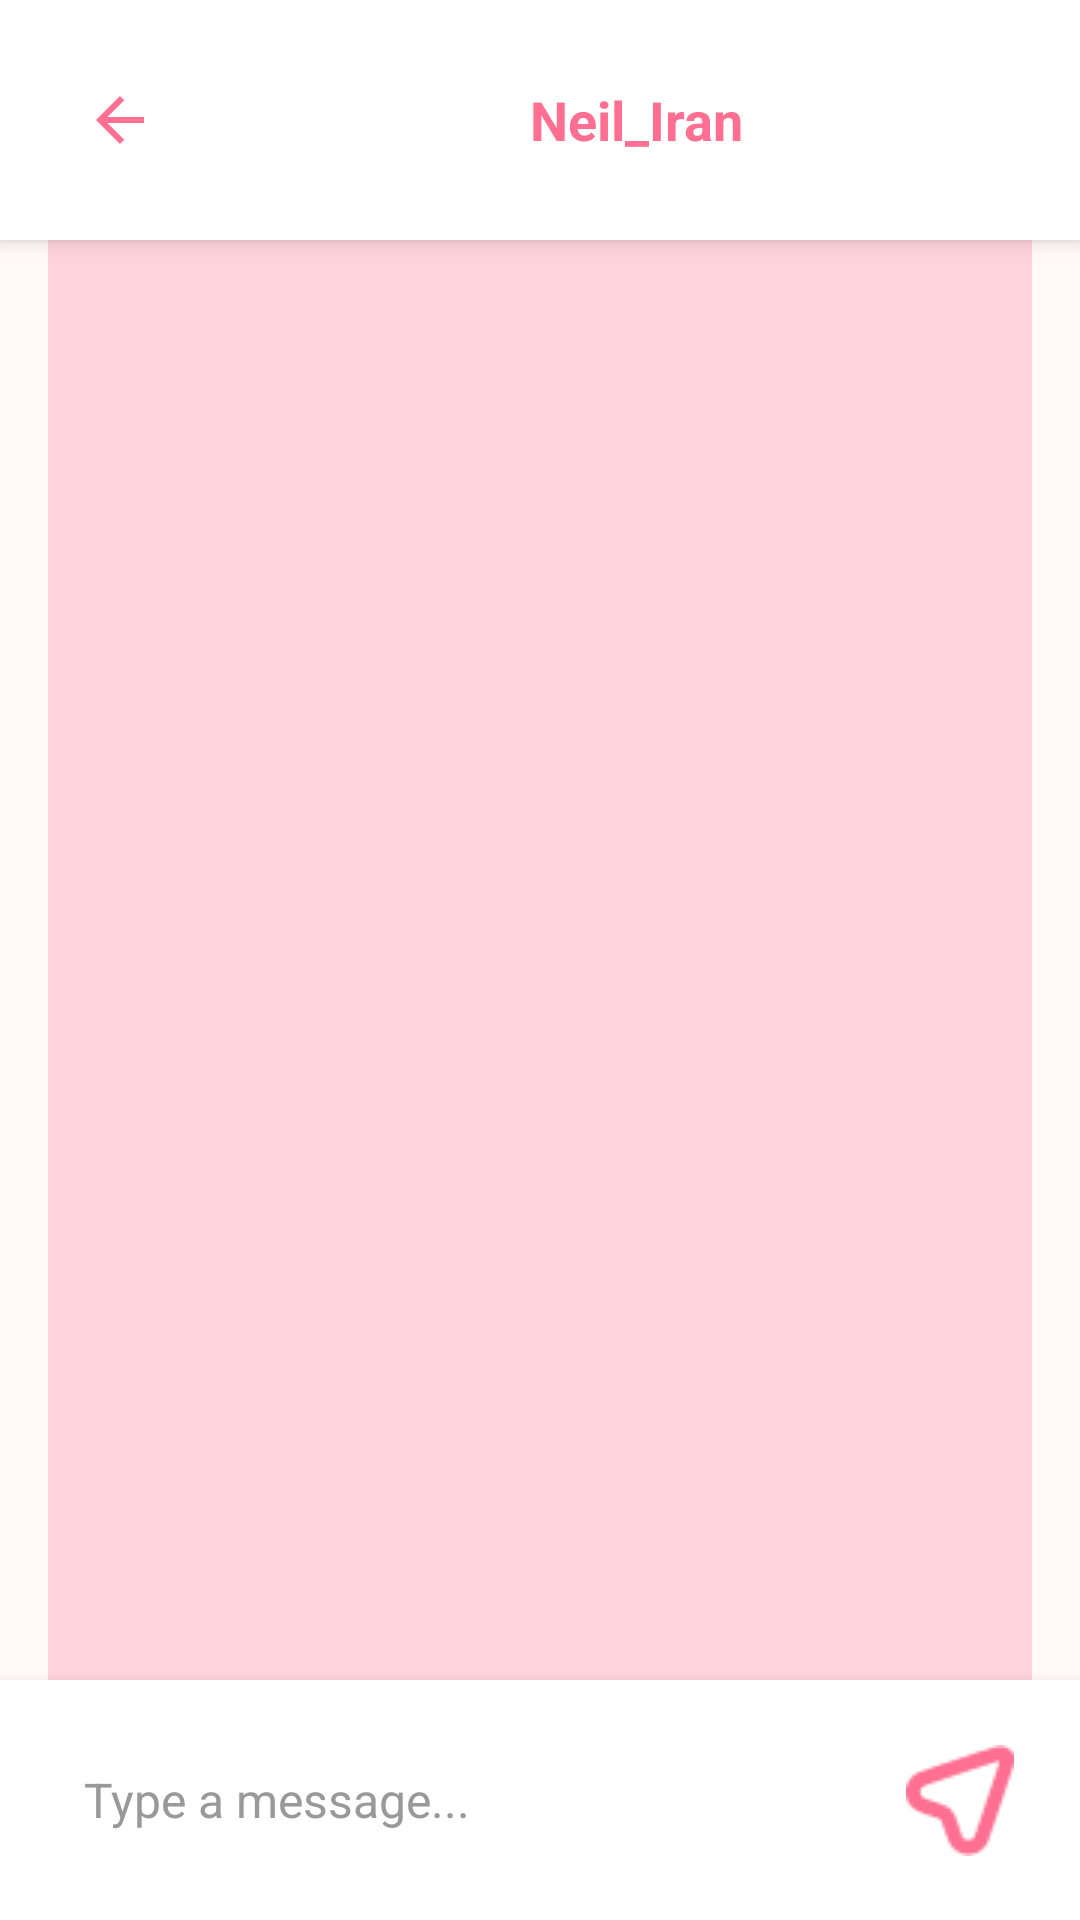

Icons on this 1080×1920 Android screen, each with the point to tap as [x,y]:
Back: [120,120]
Send: [960,1800]
